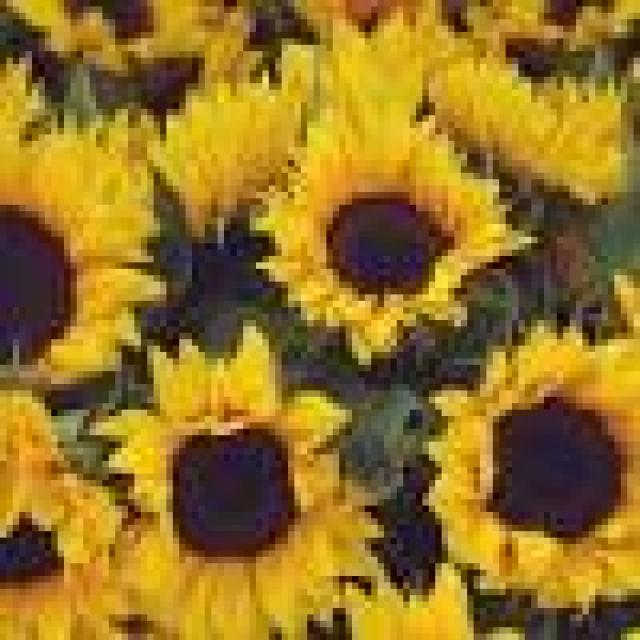sunflower: (89, 313, 345, 640), (422, 288, 640, 608), (253, 105, 502, 342)
